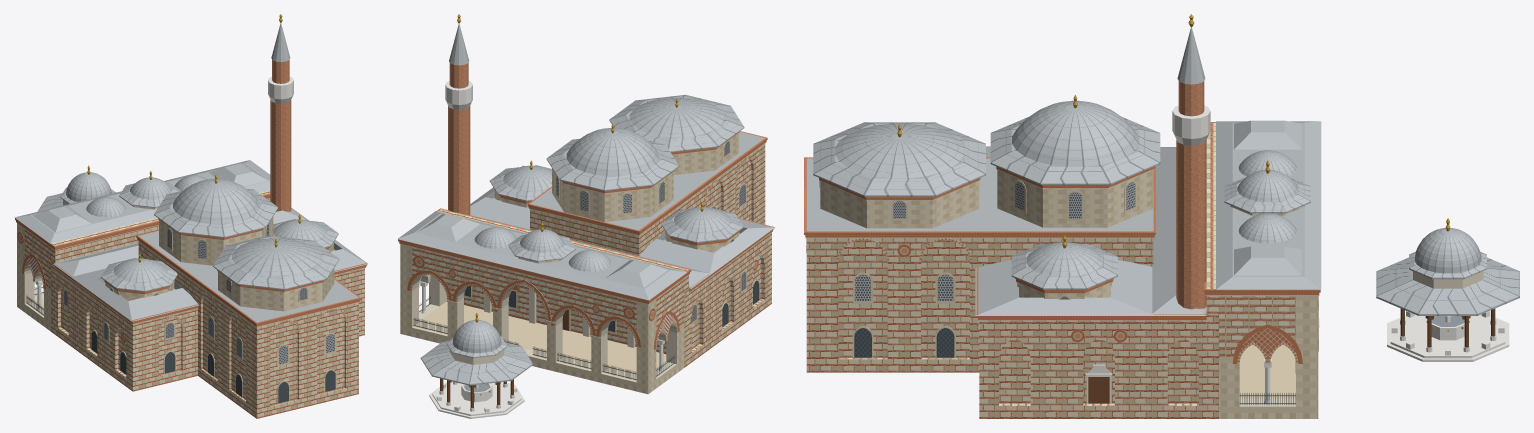
The model's file is orhan-bey-camii_v09.glb.
3 renders of one model, left to right at view 1: azimuth 30°, elevation 25°; view 2: azimuth 150°, elevation 25°; view 3: azimuth 270°, elevation 25°, orthographic. The views are drawn at different scales.
Visible parts, largest first — view 1: Cami_Govde, Cami_Mihrap, Kubbe_Mihrap, Kubbe_Ana, Kubbe_SonCemaat, Minare_1, Kubbe_Tabhane_B, Cami_SonCemaat, Sadirvan, Kubbe_Tabhane_D, Revak_Cephe; view 2: Cami_Govde, Cami_SonCemaat, Kubbe_SonCemaat, Kubbe_Ana, Sadirvan, Kubbe_Mihrap, Cami_Mihrap, Minare_1, Revak_Cephe, Kubbe_Tabhane_B, Kubbe_Tabhane_D, Revak_Kemerler; view 3: Cami_Govde, Cami_Mihrap, Kubbe_SonCemaat, Kubbe_Ana, Kubbe_Mihrap, Sadirvan, Cami_SonCemaat, Minare_1, Kubbe_Tabhane_D, Revak_Cephe.
Part boxes in pixels (x1=…): Cami_Govde: x1=15, y1=171, x2=367, y2=403; Cami_Mihrap: x1=191, y1=269, x2=358, y2=418; Kubbe_Mihrap: x1=213, y1=235, x2=339, y2=311; Kubbe_Ana: x1=154, y1=178, x2=278, y2=265; Kubbe_SonCemaat: x1=14, y1=160, x2=270, y2=243; Minare_1: x1=268, y1=14, x2=293, y2=211; Kubbe_Tabhane_B: x1=101, y1=258, x2=177, y2=300; Cami_SonCemaat: x1=17, y1=223, x2=50, y2=331; Sadirvan: x1=37, y1=165, x2=116, y2=211; Kubbe_Tabhane_D: x1=273, y1=219, x2=338, y2=251; Revak_Cephe: x1=22, y1=254, x2=46, y2=315; Cami_Govde: x1=398, y1=98, x2=775, y2=375; Cami_SonCemaat: x1=400, y1=244, x2=684, y2=394; Kubbe_SonCemaat: x1=398, y1=211, x2=686, y2=300; Kubbe_Ana: x1=546, y1=128, x2=679, y2=221; Sadirvan: x1=420, y1=313, x2=532, y2=418; Kubbe_Mihrap: x1=609, y1=94, x2=744, y2=174; Cami_Mihrap: x1=673, y1=132, x2=765, y2=224; Minare_1: x1=445, y1=14, x2=472, y2=215; Revak_Cephe: x1=407, y1=270, x2=679, y2=380; Kubbe_Tabhane_B: x1=661, y1=207, x2=743, y2=252; Kubbe_Tabhane_D: x1=489, y1=165, x2=551, y2=207; Revak_Kemerler: x1=484, y1=287, x2=635, y2=353; Cami_Govde: x1=804, y1=95, x2=1320, y2=418; Cami_Mihrap: x1=806, y1=158, x2=997, y2=372; Kubbe_SonCemaat: x1=1216, y1=120, x2=1321, y2=289; Kubbe_Ana: x1=990, y1=100, x2=1160, y2=227; Kubbe_Mihrap: x1=813, y1=122, x2=985, y2=228; Sadirvan: x1=1376, y1=218, x2=1519, y2=361; Cami_SonCemaat: x1=1219, y1=296, x2=1318, y2=418; Minare_1: x1=1172, y1=14, x2=1210, y2=309; Kubbe_Tabhane_D: x1=1011, y1=242, x2=1117, y2=298; Revak_Cephe: x1=1232, y1=296, x2=1319, y2=404.
Bounding box in the file's own units: 26.2 × 28.65 × 46.86.
Materials: 23 (14 with a texture image).
